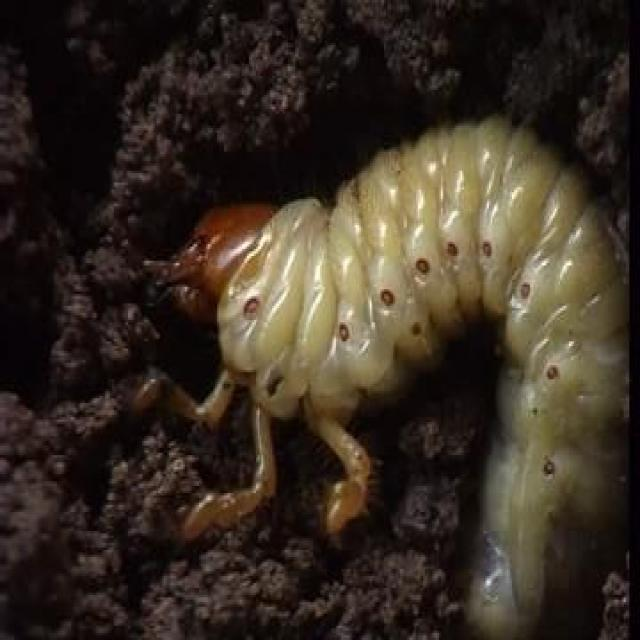Grub-Adult-: (166, 110, 632, 627)
